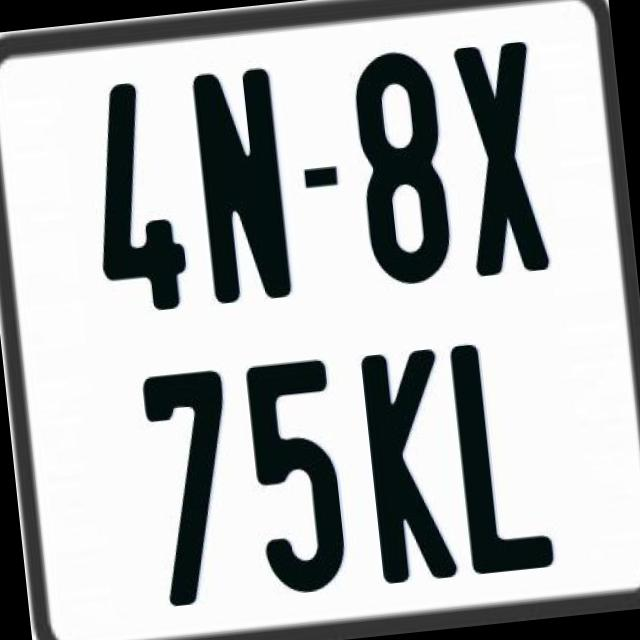4: (82, 74, 197, 320)
5: (243, 358, 350, 602)
7: (140, 364, 248, 608)
8: (347, 48, 455, 296)
K: (356, 343, 462, 581)
L: (446, 336, 560, 582)
N: (190, 61, 293, 302)
X: (449, 35, 552, 276)
